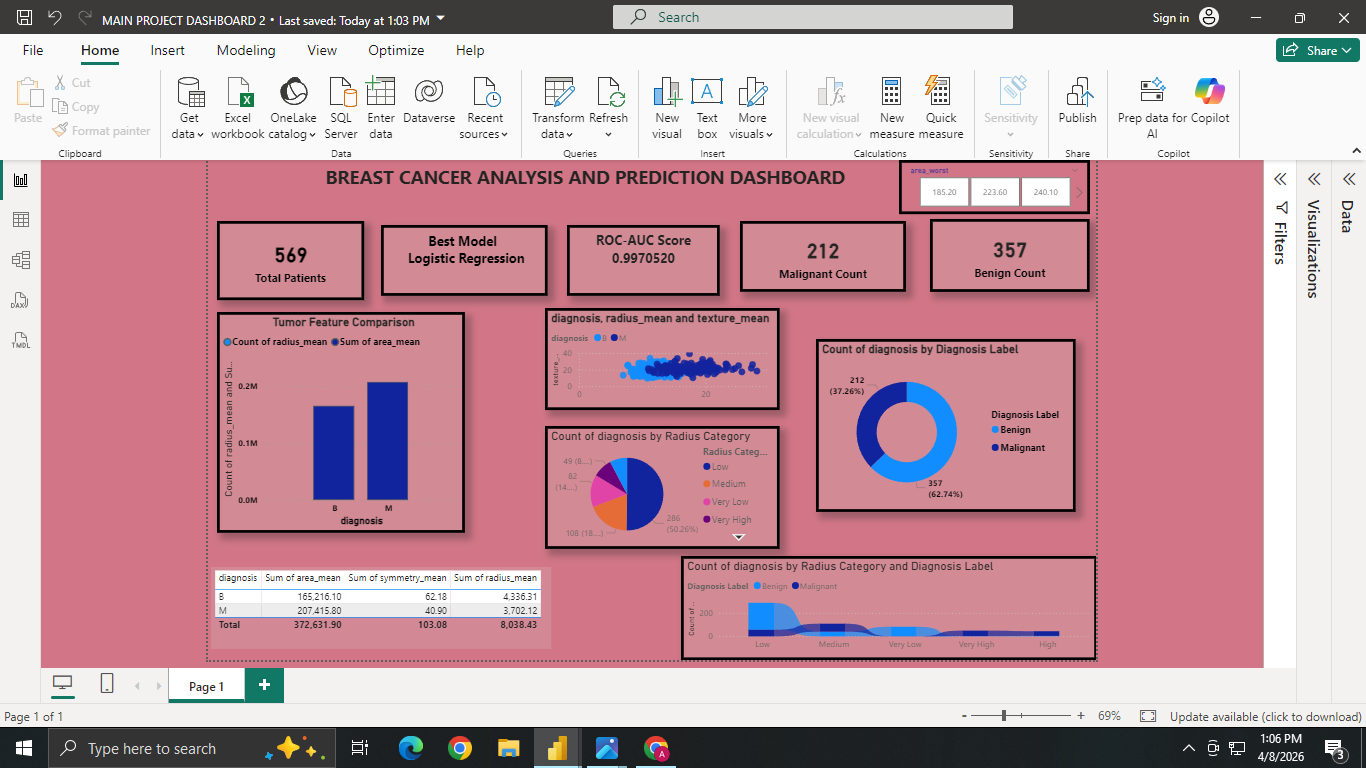

Layout of this report page (visuals, bound fields, positions):
{"tool":"powerbi","page":{"name":"Page 1","canvas":[1280,720],"ordinal":0},"visuals":[{"type":"columnChart","title":"Tumor Feature Comparison","fields":{"Category":["breast-cancer.diagnosis"],"Y":["CountNonNull(breast-cancer.radius_mean)","Sum(breast-cancer.area_mean)"]},"box":[13,218.9,357.1,318.2],"z":0},{"type":"textbox","box":[164.2,0,787.7,60.5],"z":1000},{"type":"card","fields":{"Values":["breast-cancer.Total Patients"]},"box":[13,87.8,211.7,113.8],"z":2000},{"type":"card","fields":{"Values":["breast-cancer.Malignant Count"]},"box":[766.1,87.8,239,102.2],"z":5000},{"type":"card","fields":{"Values":["breast-cancer.Benign Count"]},"box":[1039.7,85,230.4,105.1],"z":6000},{"type":"scatterChart","fields":{"X":["breast-cancer.radius_mean"],"Y":["breast-cancer.texture_mean"],"Series":["breast-cancer.diagnosis"]},"box":[485.3,213.1,338.4,146.9],"z":7000},{"type":"donutChart","fields":{"Category":["breast-cancer.Diagnosis Label"],"Y":["CountNonNull(breast-cancer.diagnosis)"]},"box":[875.5,257.8,374.4,249.1],"z":8000},{"type":"slicer","fields":{"Values":["breast-cancer.area_worst"]},"box":[995,0,275,77.8],"z":11000},{"type":"textbox","box":[249.1,93.6,240.5,102.2],"z":12001},{"type":"textbox","box":[517,93.6,220.3,102.2],"z":12003},{"type":"tableEx","fields":{"Values":["breast-cancer.diagnosis","Sum(breast-cancer.area_mean)","Sum(breast-cancer.symmetry_mean)","Sum(breast-cancer.radius_mean)"]},"box":[4.3,586.1,489.6,118.1],"z":12004},{"type":"pieChart","fields":{"Category":["breast-cancer.Radius Category"],"Y":["CountNonNull(breast-cancer.diagnosis)"]},"box":[485.3,383,338.4,177.1],"z":12005},{"type":"ribbonChart","fields":{"Category":["breast-cancer.Radius Category"],"Series":["breast-cancer.Diagnosis Label"],"Y":["CountNonNull(breast-cancer.diagnosis)"]},"box":[681.1,570.2,599,149.8],"z":12006}]}

Visuals, with their boxes on the page's 1280x720 design canvas (x1, y1, x2, y2). These are canvas units, not pixel positions in the 1366x768 screenshot, which may show the page scaled, cropped or inside an application window:
"Tumor Feature Comparison" columnChart: BBox(13, 219, 370, 537)
textbox: BBox(164, 0, 952, 60)
card - breast-cancer.Total Patients: BBox(13, 88, 225, 202)
card - breast-cancer.Malignant Count: BBox(766, 88, 1005, 190)
card - breast-cancer.Benign Count: BBox(1040, 85, 1270, 190)
scatterChart - breast-cancer.radius_mean x breast-cancer.texture_mean: BBox(485, 213, 824, 360)
donutChart - breast-cancer.Diagnosis Label x CountNonNull(breast-cancer.diagnosis): BBox(876, 258, 1250, 507)
slicer - breast-cancer.area_worst: BBox(995, 0, 1270, 78)
textbox: BBox(249, 94, 490, 196)
textbox: BBox(517, 94, 737, 196)
tableEx - breast-cancer.diagnosis x Sum(breast-cancer.area_mean): BBox(4, 586, 494, 704)
pieChart - breast-cancer.Radius Category x CountNonNull(breast-cancer.diagnosis): BBox(485, 383, 824, 560)
ribbonChart - breast-cancer.Radius Category x breast-cancer.Diagnosis Label: BBox(681, 570, 1280, 720)
